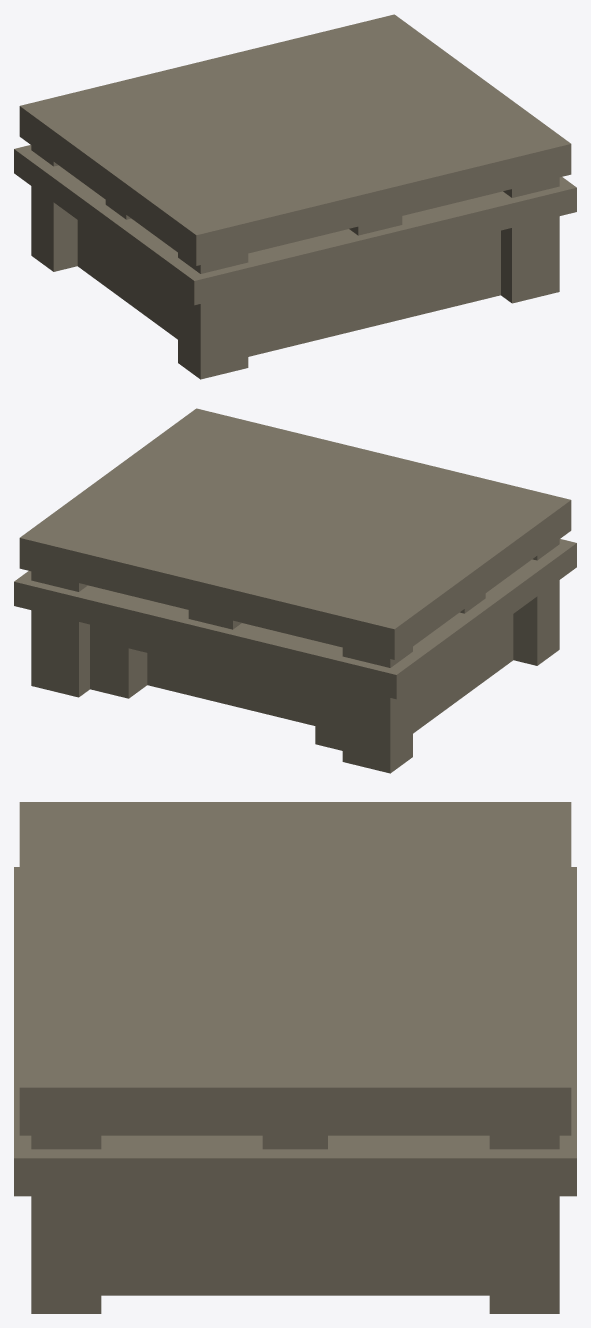
Rendered from TempleDoor_F.fbx.
The picture shows the model from 3 angles, top to bottom: view 1: azimuth 30°, elevation 25°; view 2: azimuth 150°, elevation 25°; view 3: azimuth 270°, elevation 25°; orthographic projection. The views are drawn at different scales.
Parts seen in each view (by area): view 1: TempleDoor_F; view 2: TempleDoor_F; view 3: TempleDoor_F.
Part boxes in pixels (left/top/right/bottom): TempleDoor_F: left=14, top=14, right=576, bottom=379; TempleDoor_F: left=14, top=408, right=576, bottom=773; TempleDoor_F: left=14, top=802, right=576, bottom=1313.
Bounding box in the file's own units: 659 × 245 × 538.
